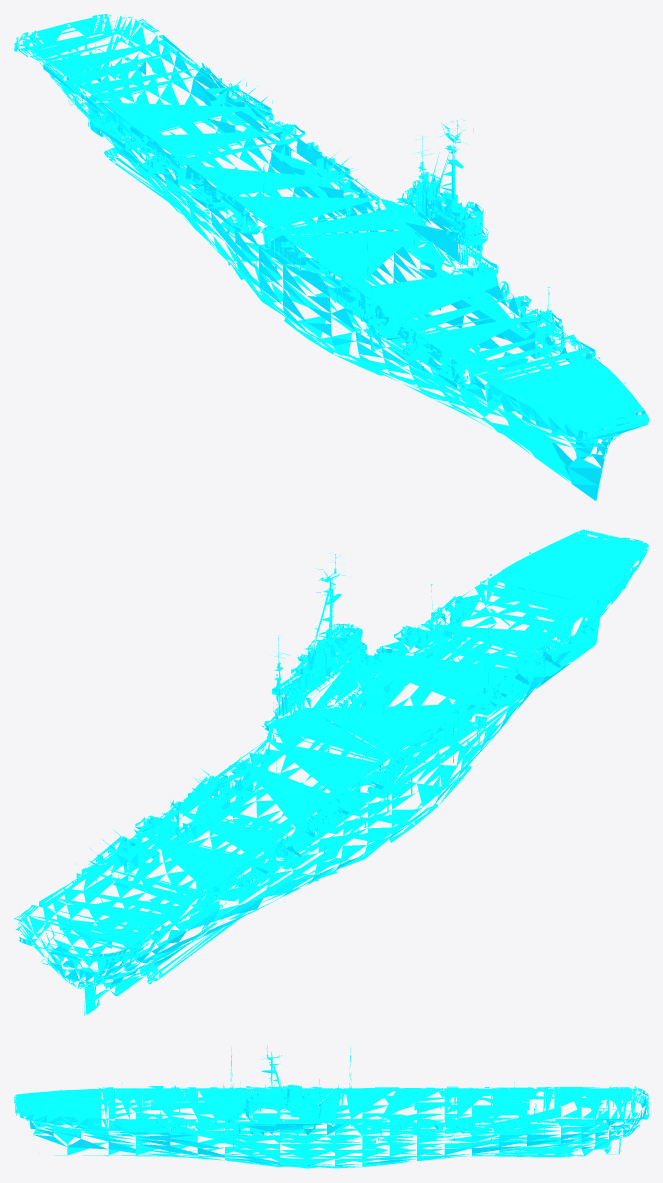
Rendered from PBSA718.glb.
The picture shows the model from 3 angles, top to bottom: view 1: azimuth 30°, elevation 25°; view 2: azimuth 150°, elevation 25°; view 3: azimuth 270°, elevation 25°; orthographic projection. The views are drawn at different scales.
Parts seen in each view (by area): view 1: hull_bow, aa_mount; view 2: hull_bow, aa_mount; view 3: hull_bow, aa_mount.
Part boxes in pixels (left/top/right/bottom): hull_bow: left=14, top=14, right=648, bottom=500; aa_mount: left=97, top=78, right=590, bottom=385; hull_bow: left=14, top=529, right=648, bottom=1015; aa_mount: left=89, top=596, right=589, bottom=896; hull_bow: left=14, top=1051, right=648, bottom=1168; aa_mount: left=121, top=1082, right=530, bottom=1130.
Bounding box in the file's own units: 2.39 × 3.09 × 14.12.
